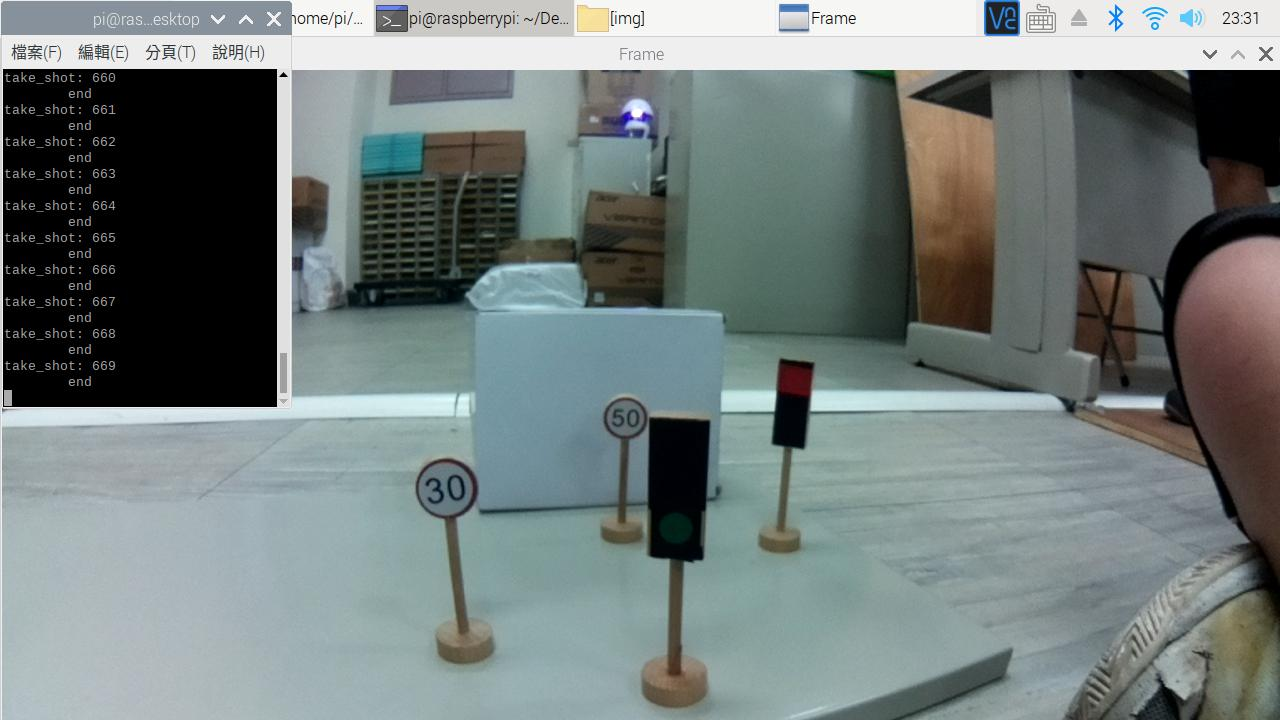Green: (646, 414, 712, 577)
Red: (765, 360, 825, 466)
Speed30: (398, 453, 491, 533)
Speed50: (594, 383, 647, 448)
